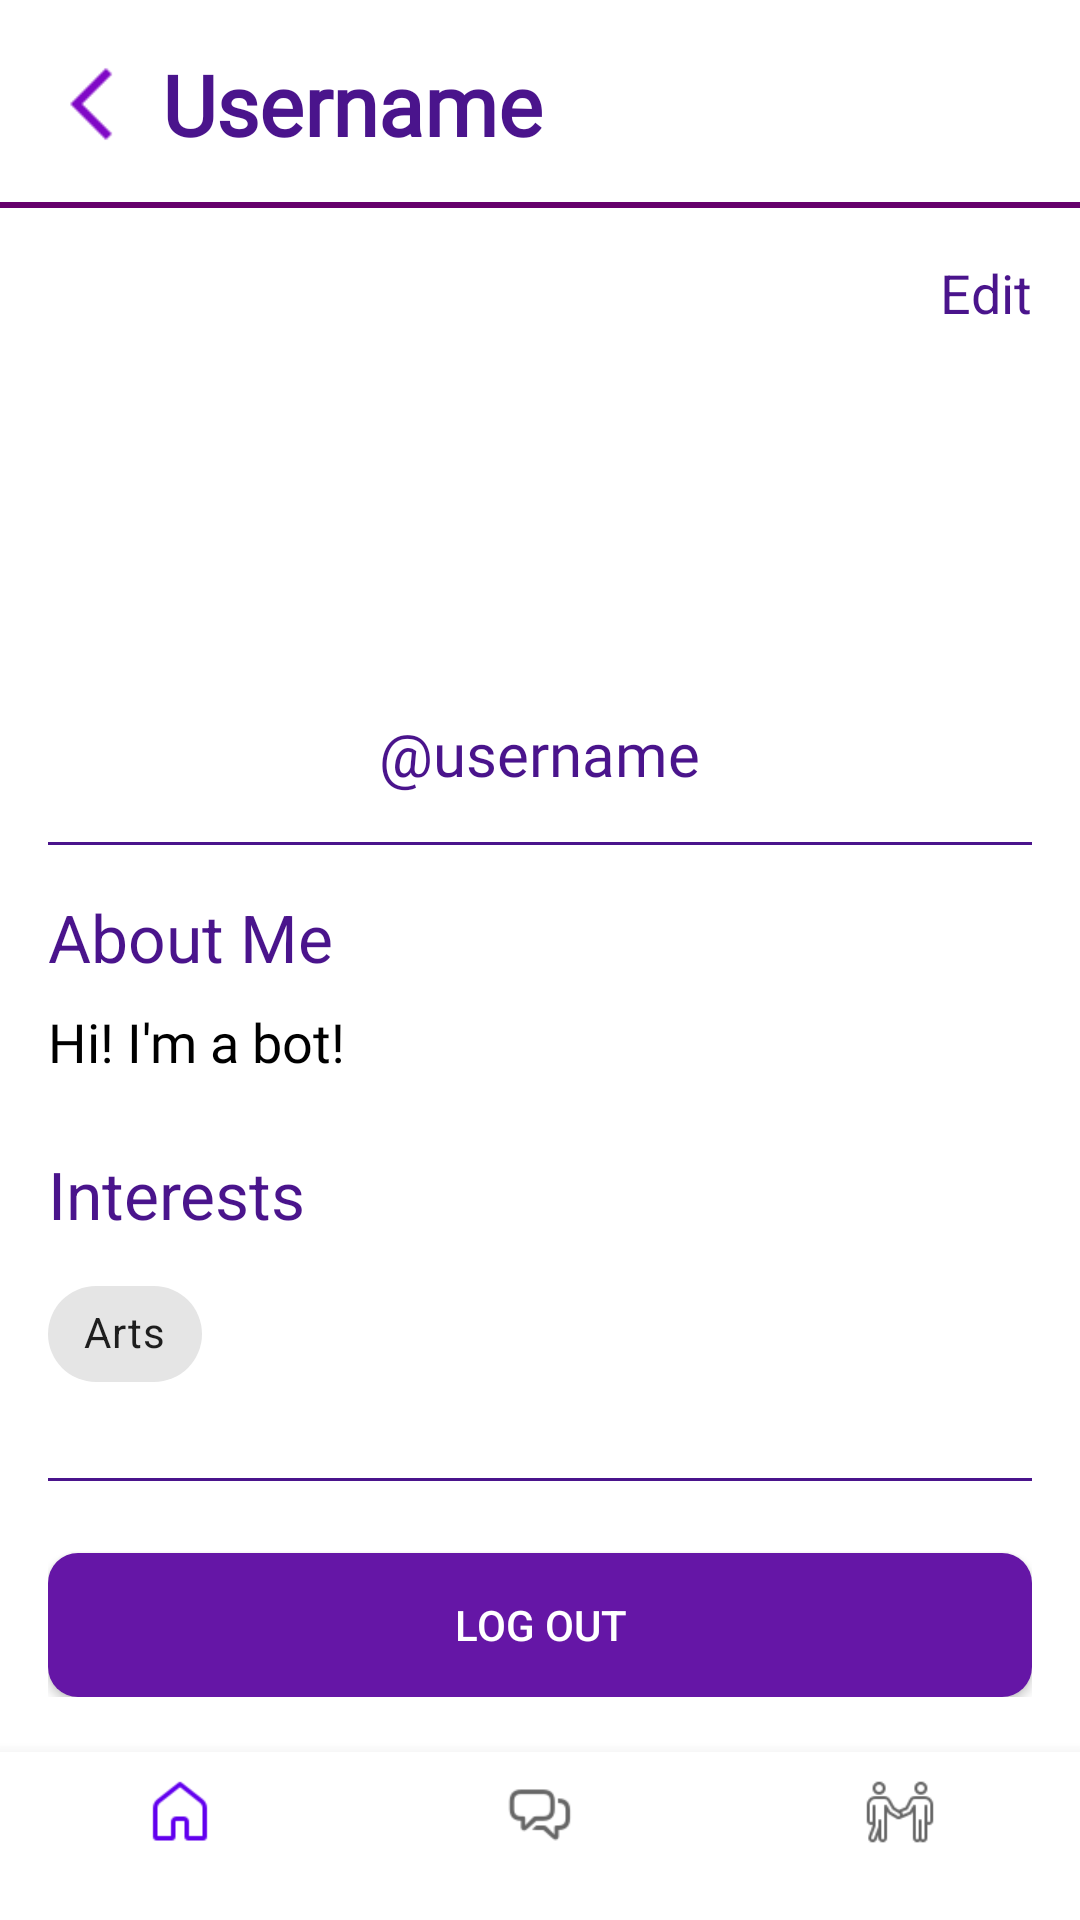

Icons on this 1080 x 1920 Android screen, each with its box as (x1, y1, x2, y2):
back: (70, 68, 112, 140)
